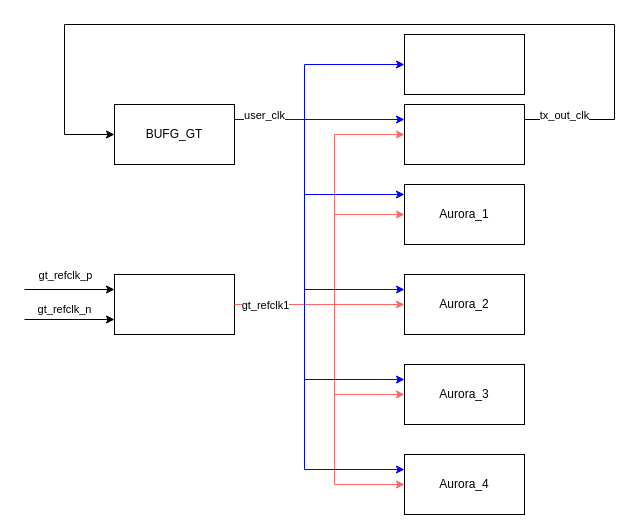
Image size: 640x532. Some labels were removed from this diagram. The box of each missing label's shape, as (x1, y1, x2, y2) in pixels:
Aurora_0: (404, 104, 524, 164)
IBUFDS_GTE4: (114, 274, 234, 334)
用户逻辑: (404, 34, 524, 94)
